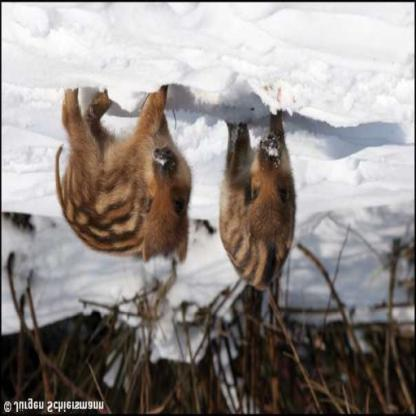boar: (75, 85, 222, 282), (204, 118, 335, 307)
